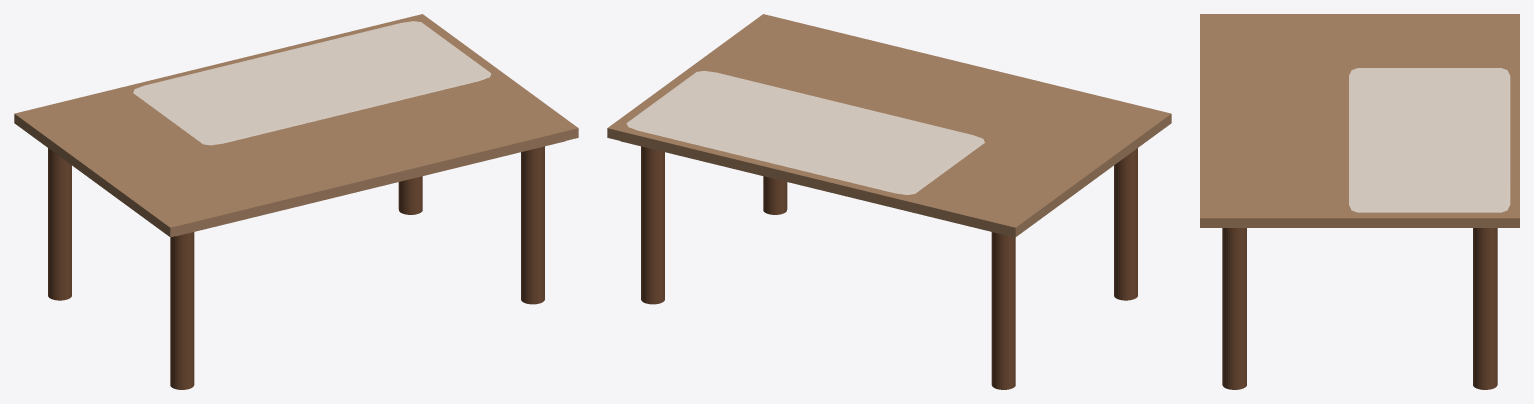
The model's file is 辦公桌.fbx.
The picture shows the model from 3 angles, left to right: view 1: azimuth 30°, elevation 25°; view 2: azimuth 150°, elevation 25°; view 3: azimuth 270°, elevation 25°; orthographic projection. The views are drawn at different scales.
Visible parts, largest first — view 1: Cube, 立方体.002, 柱体; view 2: Cube, 立方体.002, 柱体; view 3: Cube, 立方体.002, 柱体.
Part boxes in pixels (x1,y1,x2,y2): Cube: (14, 14, 578, 237); 立方体.002: (133, 21, 491, 145); 柱体: (48, 146, 544, 389); Cube: (607, 14, 1171, 237); 立方体.002: (626, 70, 984, 194); 柱体: (641, 146, 1137, 389); Cube: (1200, 14, 1519, 227); 立方体.002: (1349, 68, 1510, 212); 柱体: (1222, 228, 1497, 389).
Bounding box in the file's own units: 599 × 249 × 397.
3 materials, 3 textured.
